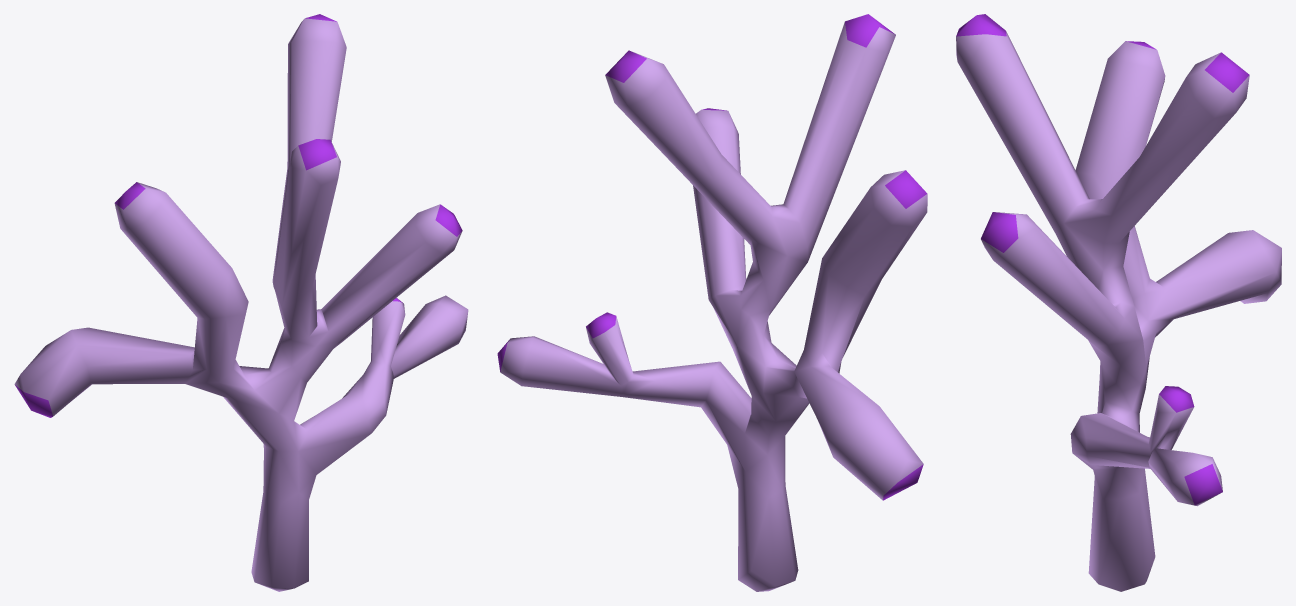
File: mini coral.fbx
3 views of the same model, side by side, from view 1: azimuth 30°, elevation 25°; view 2: azimuth 150°, elevation 25°; view 3: azimuth 270°, elevation 25° (orthographic). The views are drawn at different scales.
Parts seen in each view (by area): view 1: mini coral; view 2: mini coral; view 3: mini coral.
Part boxes in pixels (x1,y1,x2,y2): mini coral: [14, 14, 468, 591]; mini coral: [497, 14, 927, 591]; mini coral: [956, 14, 1281, 591].
Size of the model in its own units: 181 by 214 by 110.
